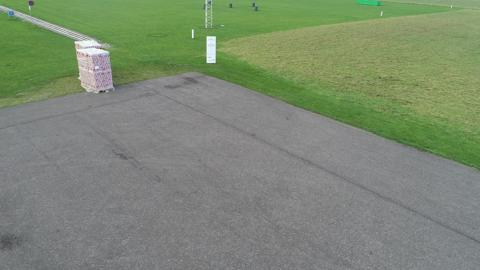RockwoolPallet: (77, 38, 95, 52)
